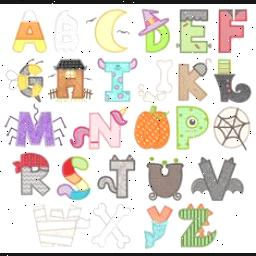a: (10, 9, 48, 55)
b: (54, 11, 86, 57)
c: (95, 8, 131, 60)
e: (172, 4, 214, 62)
m: (16, 107, 62, 151)
n: (84, 112, 128, 148)
r: (10, 146, 58, 198)
u: (138, 154, 192, 202), (102, 156, 134, 198)
v: (192, 150, 234, 208)
x: (88, 202, 138, 250)
